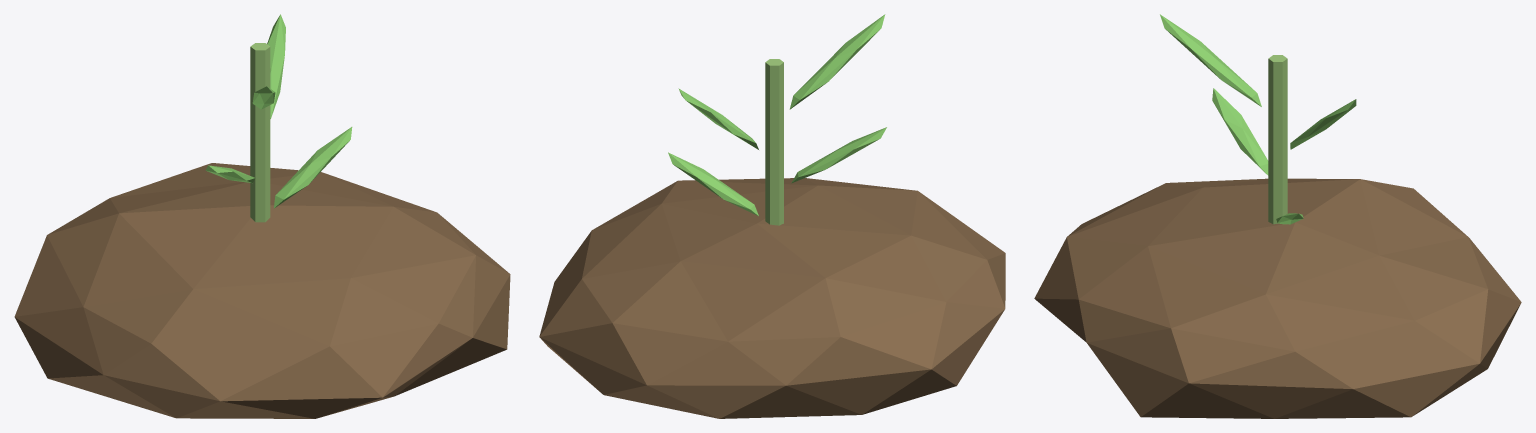
File: mais_2_pousse.fbx
The picture shows the model from 3 angles, left to right: view 1: azimuth 30°, elevation 25°; view 2: azimuth 150°, elevation 25°; view 3: azimuth 270°, elevation 25°; orthographic projection. The views are drawn at different scales.
Parts seen in each view (by area): view 1: mais_2_pousse; view 2: mais_2_pousse; view 3: mais_2_pousse.
Part boxes in pixels (x1,y1,x2,y2): mais_2_pousse: (14,14,510,418); mais_2_pousse: (539,14,1005,418); mais_2_pousse: (1034,14,1521,418).
Bounding box in the file's own units: 0.9432 × 0.7872 × 1.02.
